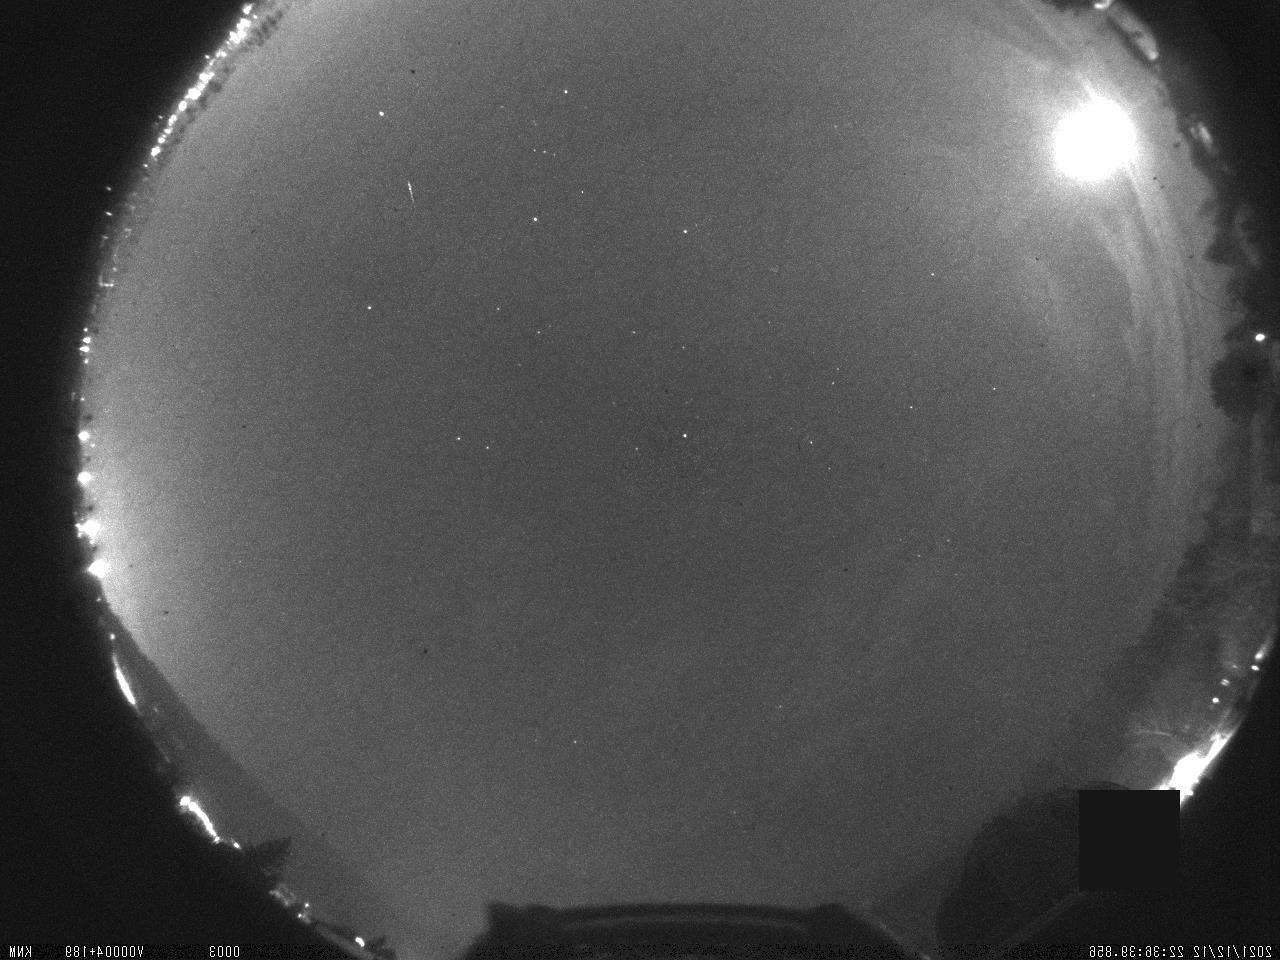meteor: (398, 171, 423, 215)
